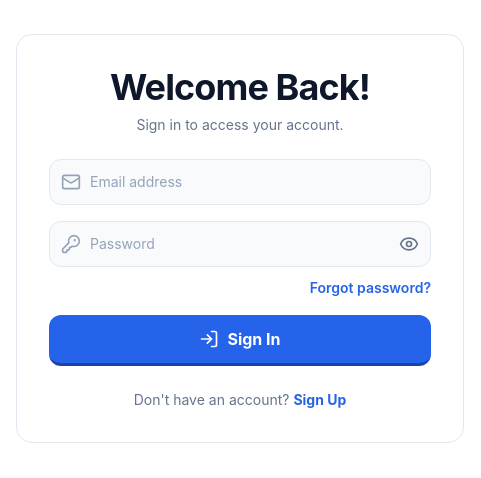
LoginPage › shows a message and re-enables the button when credentials are rejected
In the field with id "email": (240, 182) x1=49 y1=159 x2=431 y2=205, type "someone@mathly.local"
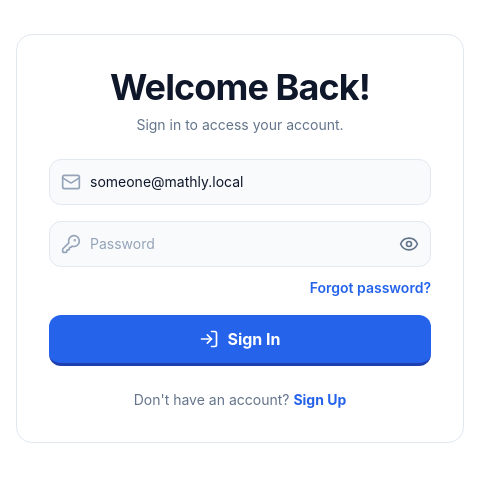
In the password field with placeholder "Password": (240, 244) x1=49 y1=221 x2=431 y2=267, type "hunter2222"
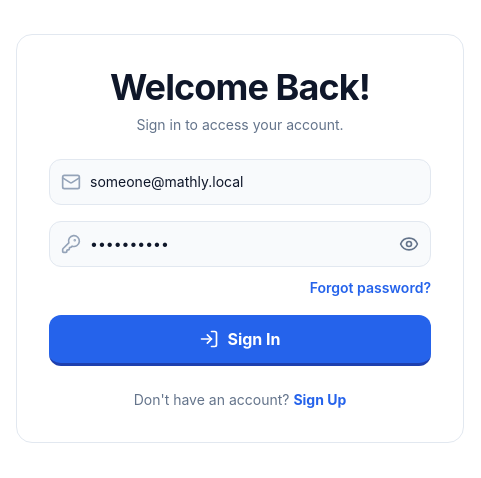
Submit the form, box x1=49 y1=159 x2=431 y2=366
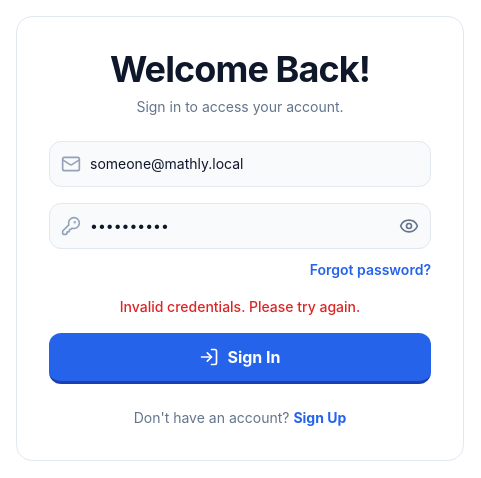
Expected: the submit button is enabled, x1=49 y1=333 x2=431 y2=384
Now the text "Invalid credentials. Please try again." is shown, box x1=120 y1=298 x2=360 y2=315
